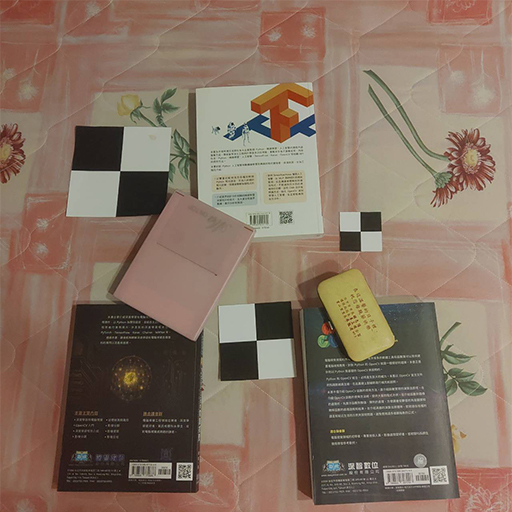方標: (64, 116, 173, 216), (215, 298, 302, 382), (336, 205, 386, 254)
